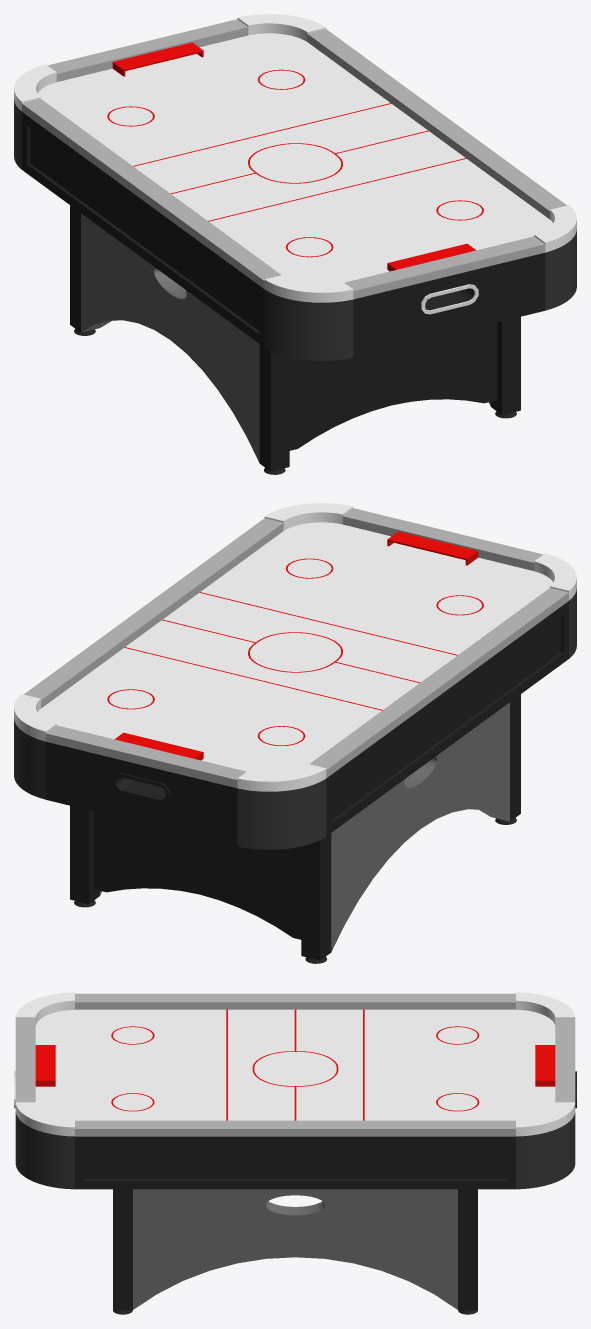
The model's file is hockeytablev3.dae.
3 renders of one model, top to bottom at view 1: azimuth 30°, elevation 25°; view 2: azimuth 150°, elevation 25°; view 3: azimuth 270°, elevation 25°, orthographic. The views are drawn at different scales.
Parts seen in each view (by area): view 1: Cabinet (×14), Support, Leg_Support_Frame, Frame (×2), Edge_Frame (×6), Leg (×3), Small_Frame (×2), __Puck_Return_Box (×2); view 2: Cabinet (×14), Support, Leg_Support_Frame, Frame (×2), Edge_Frame (×6), Leg (×3), Small_Frame (×2), __Puck_Return_Box (×2); view 3: Cabinet (×13), Leg_Support_Frame (×2), Frame (×2), Edge_Frame (×6), Leg (×2), Small_Frame (×2), __Puck_Return_Box (×2).
Boxes of the visible parts, left/top/right/bottom form: Cabinet (×14): left=22, top=33, right=553, bottom=357; Support: left=289, top=322, right=497, bottom=450; Leg_Support_Frame: left=81, top=213, right=259, bottom=462; Frame (×2): left=22, top=29, right=566, bottom=288; Edge_Frame (×6): left=14, top=14, right=576, bottom=360; Leg (×3): left=70, top=205, right=520, bottom=471; Small_Frame (×2): left=47, top=19, right=545, bottom=299; __Puck_Return_Box (×2): left=112, top=42, right=476, bottom=271; Cabinet (×14): left=37, top=522, right=568, bottom=846; Support: left=93, top=811, right=301, bottom=939; Leg_Support_Frame: left=331, top=702, right=509, bottom=951; Frame (×2): left=24, top=518, right=568, bottom=777; Edge_Frame (×6): left=14, top=503, right=576, bottom=849; Leg (×3): left=70, top=694, right=520, bottom=960; Small_Frame (×2): left=45, top=508, right=543, bottom=788; __Puck_Return_Box (×2): left=114, top=531, right=478, bottom=760; Cabinet (×13): left=35, top=1009, right=555, bottom=1189; Leg_Support_Frame (×2): left=133, top=1189, right=457, bottom=1309; Frame (×2): left=75, top=993, right=515, bottom=1136; Edge_Frame (×6): left=15, top=992, right=575, bottom=1189; Leg (×2): left=113, top=1189, right=477, bottom=1310; Small_Frame (×2): left=15, top=1019, right=575, bottom=1102; __Puck_Return_Box (×2): left=35, top=1045, right=555, bottom=1086.
Size of the model in its own units: 48 by 84.5 by 33.
